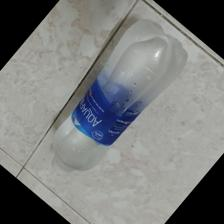Aquafina: (53, 19, 188, 178)
